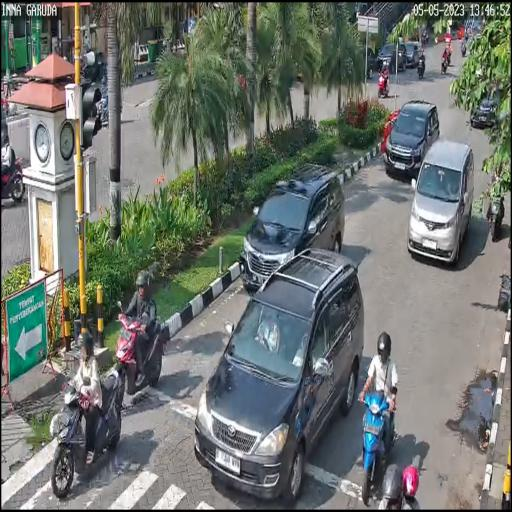mobil: (191, 250, 367, 502), (240, 159, 349, 291), (407, 138, 475, 264), (379, 98, 441, 184)
motor: (53, 362, 124, 498), (110, 301, 166, 406), (359, 382, 400, 502)
